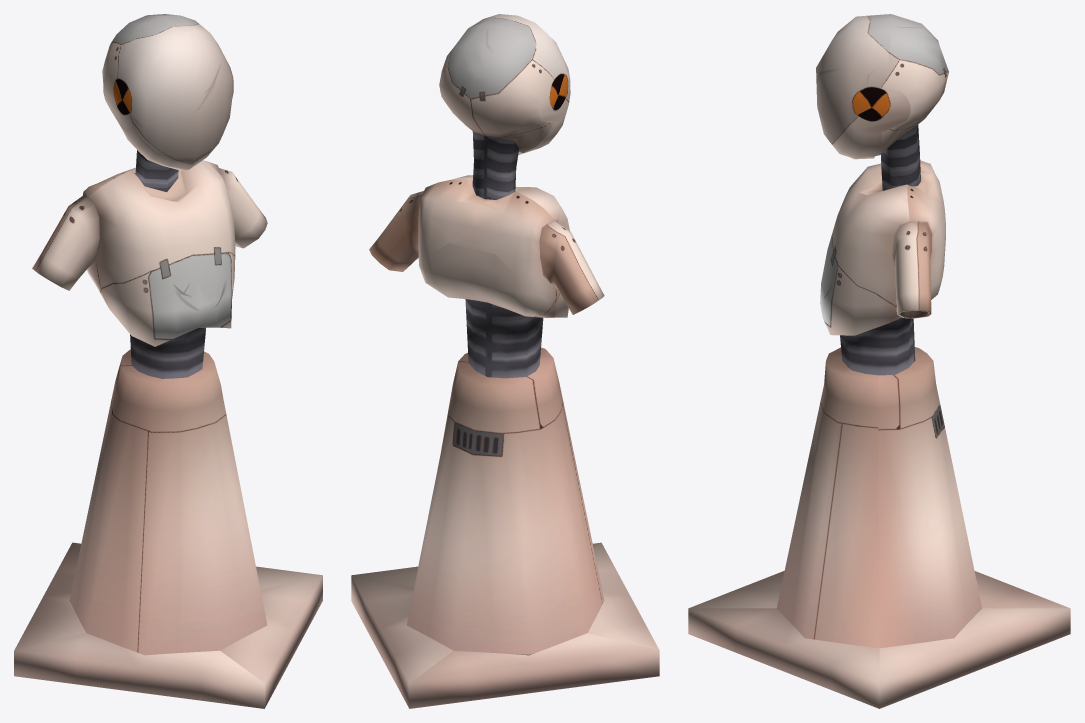
File: Dummy.FBX
3 renders of one model, left to right at view 1: azimuth 30°, elevation 25°; view 2: azimuth 150°, elevation 25°; view 3: azimuth 270°, elevation 25°, orthographic.
Visible parts, largest first — view 1: dummy; view 2: dummy; view 3: dummy.
Part boxes in pixels (x1,y1,x2,y2): dummy: [14, 14, 322, 708]; dummy: [351, 14, 659, 708]; dummy: [688, 14, 1070, 708].
Bounding box in the file's own units: 46.65 × 89.22 × 50.33.
